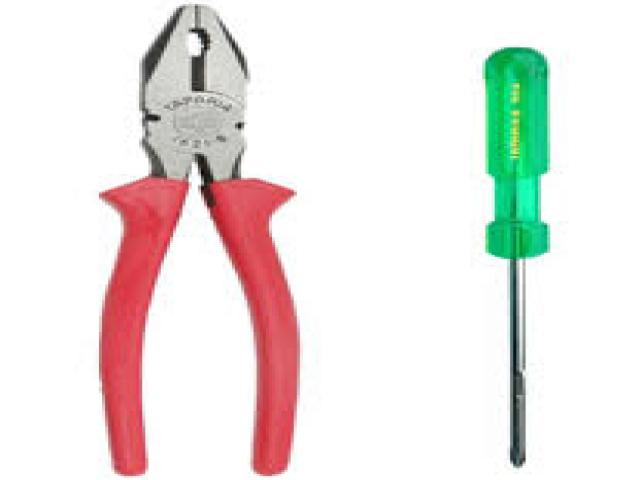Pliers: (100, 5, 299, 475)
Screwdriver: (484, 48, 549, 466)
